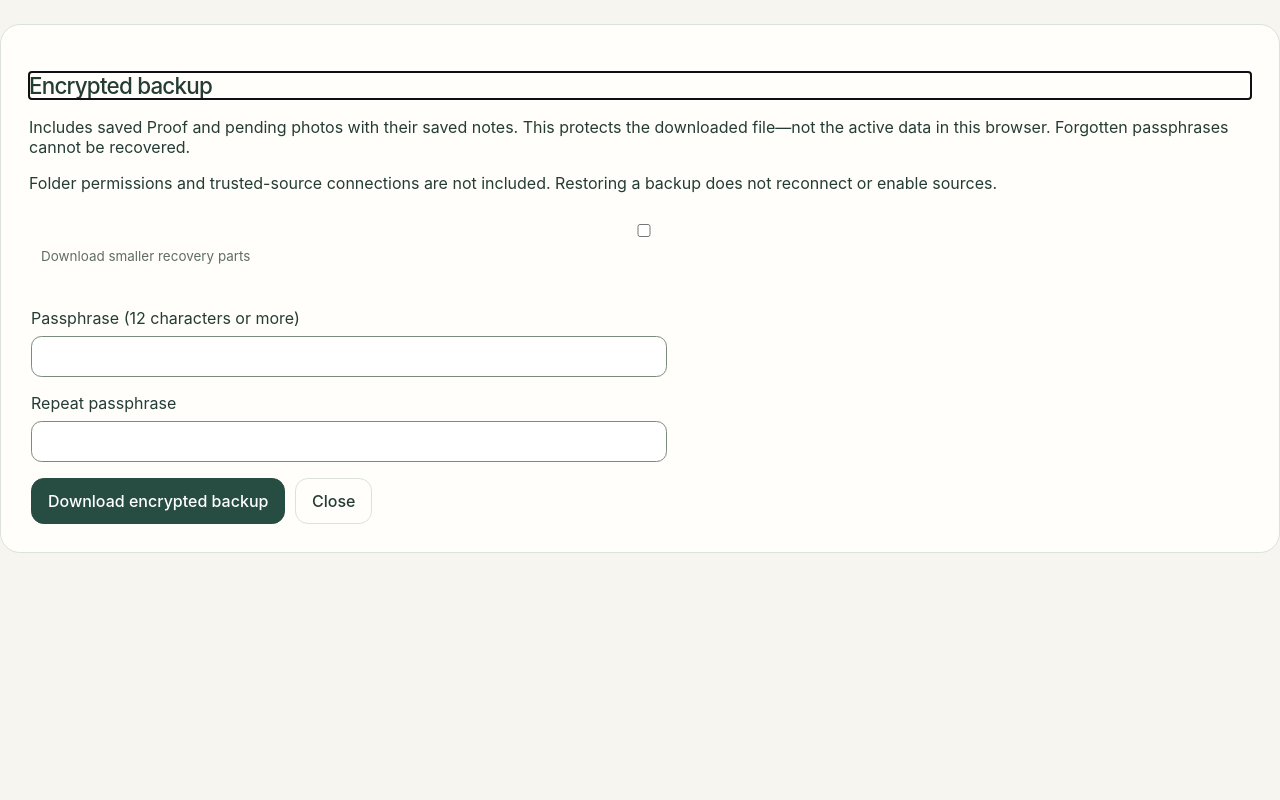
Scenario: cancels even while encryption is running without releasing a late file
The width and height of the screenshot is (1280, 800).
Click the checkbox labelled "Download smaller recovery parts". click: x=644, y=231
box: [45,224,1243,237]
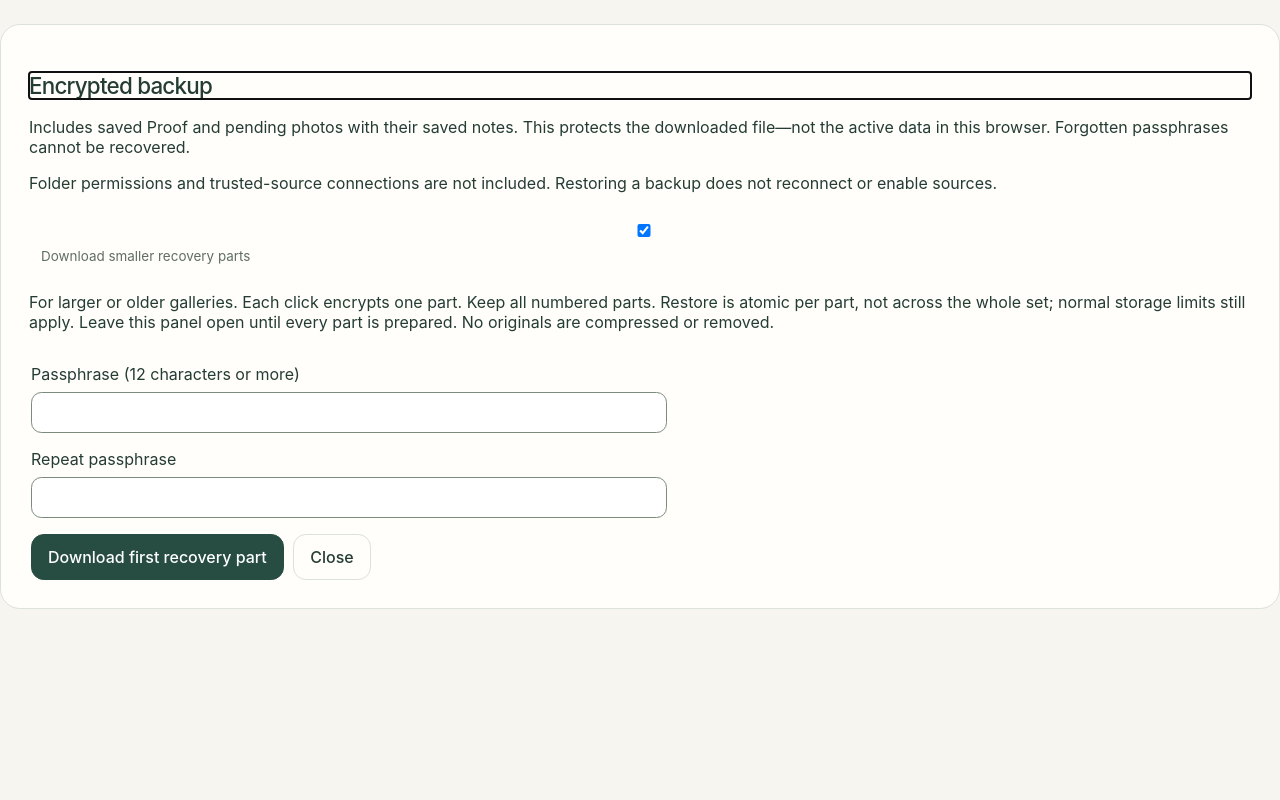
Type "synthetic long password" into the password field labelled "Passphrase (12 characters or more)". click: x=349, y=413
box: [31,392,667,433]
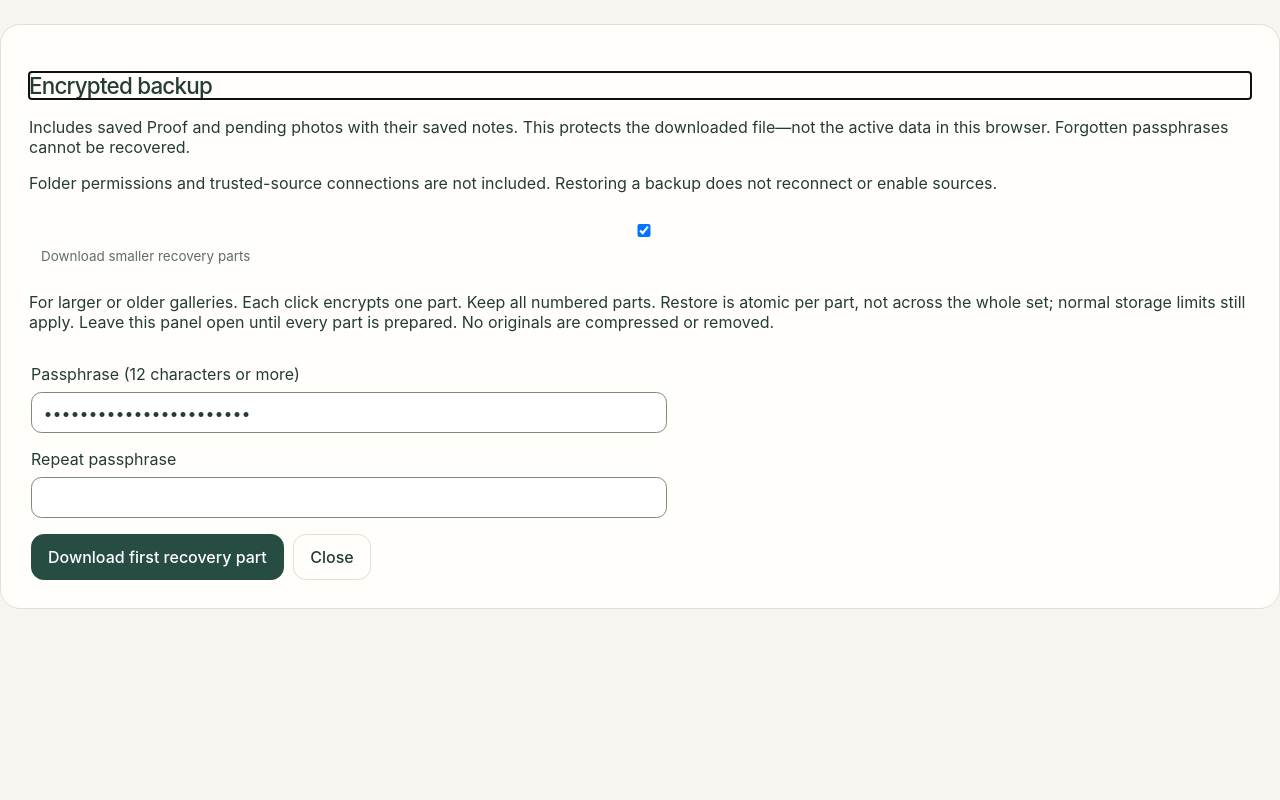
Type "synthetic long password" into the password field labelled "Repeat passphrase". click: x=349, y=497
box: [31,477,667,518]
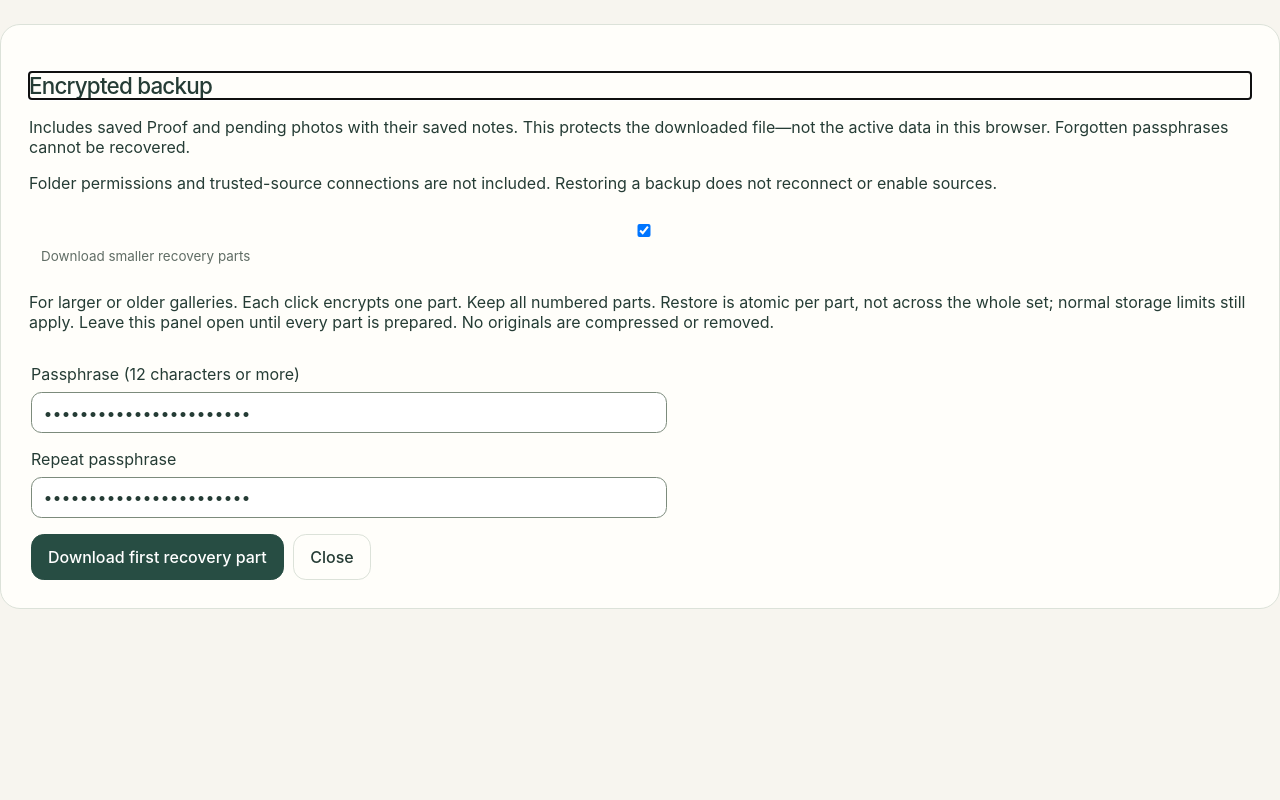
Click the button "Download first recovery part". click: x=157, y=557
box: [31,534,284,580]
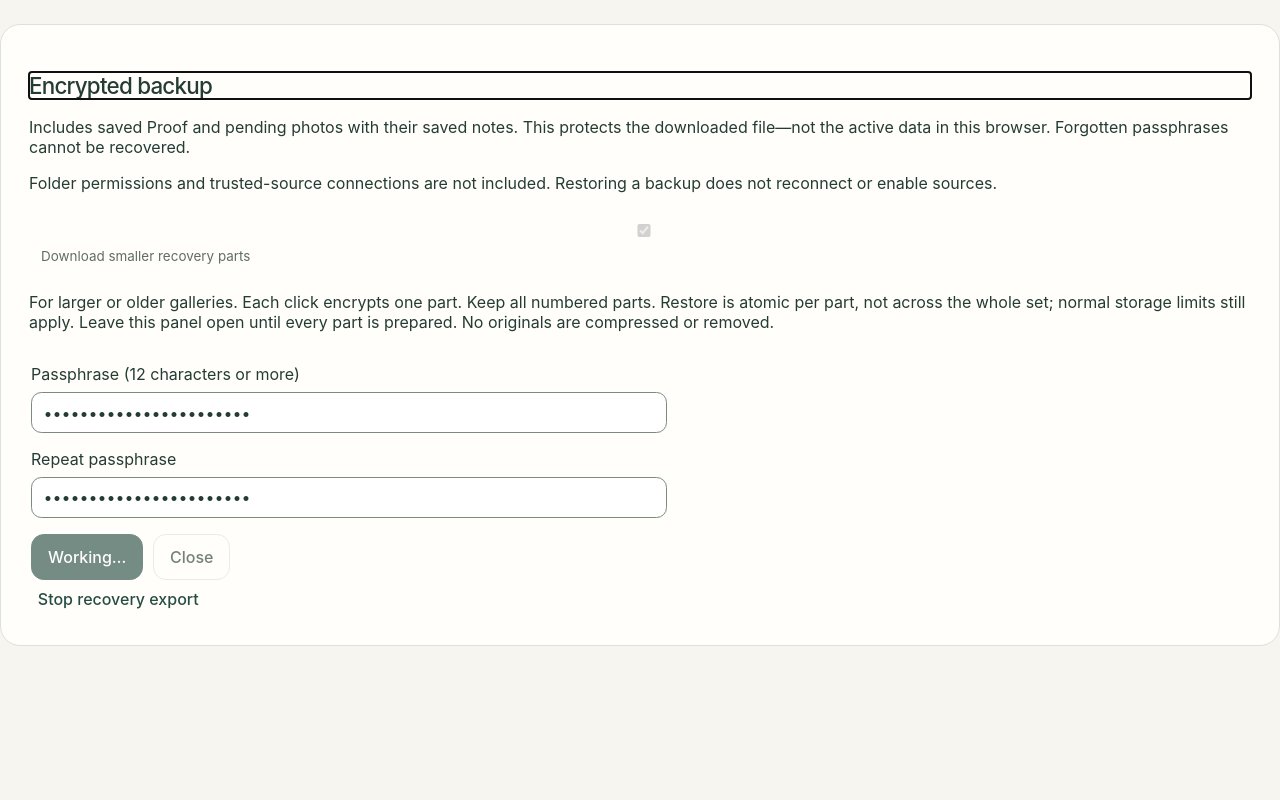
Click the button "Stop recovery export". click: x=118, y=599
box: [29,580,208,617]
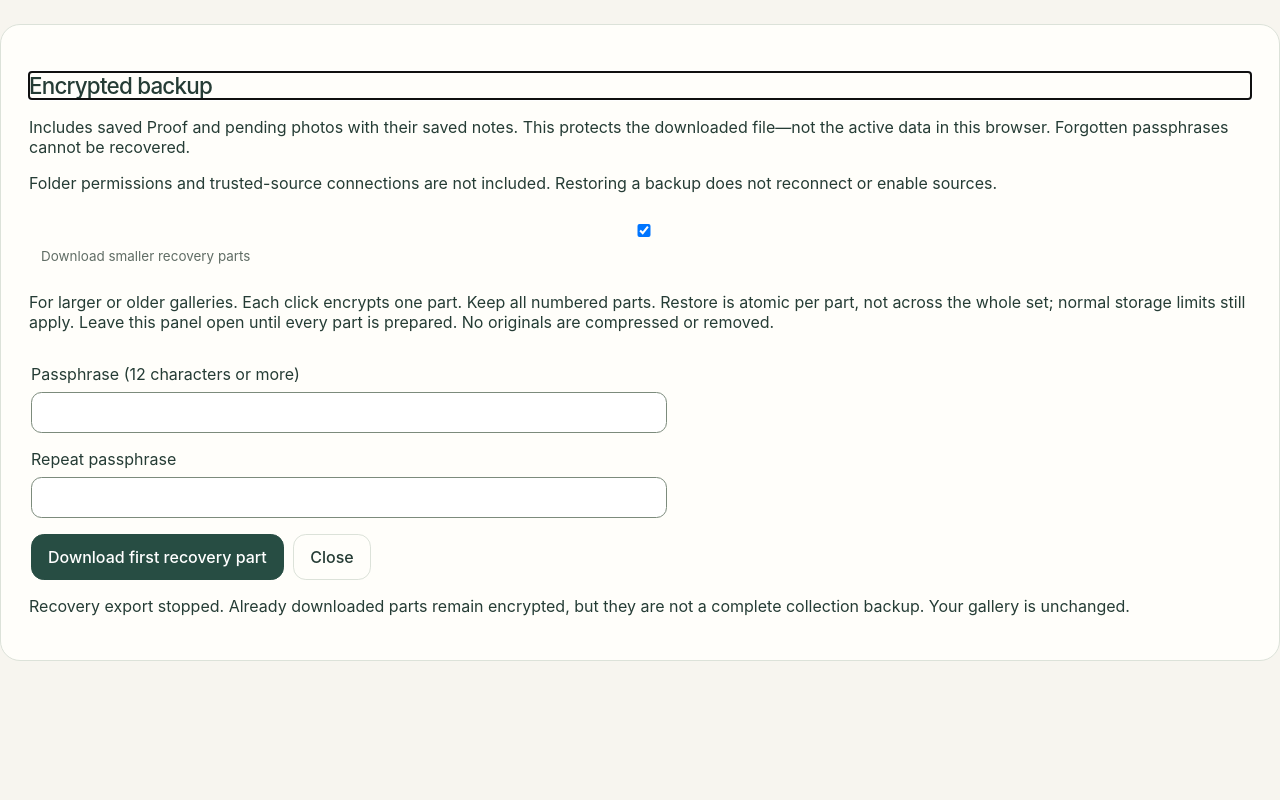
Check: the text "Recovery export stopped" is shown, box [29,596,1130,616]
Check: the password field labelled "Passphrase (12 characters or more)" is empty, box [31,392,667,433]
Check: the button "Download first recovery part" is enabled, box [31,534,284,580]
